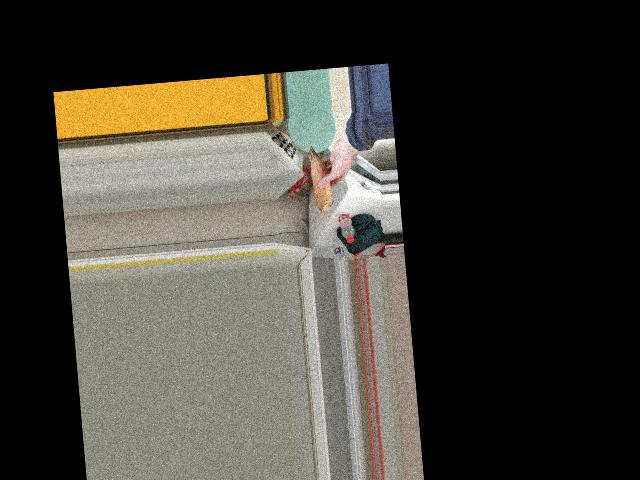sweet_potato: (310, 143, 331, 216)
